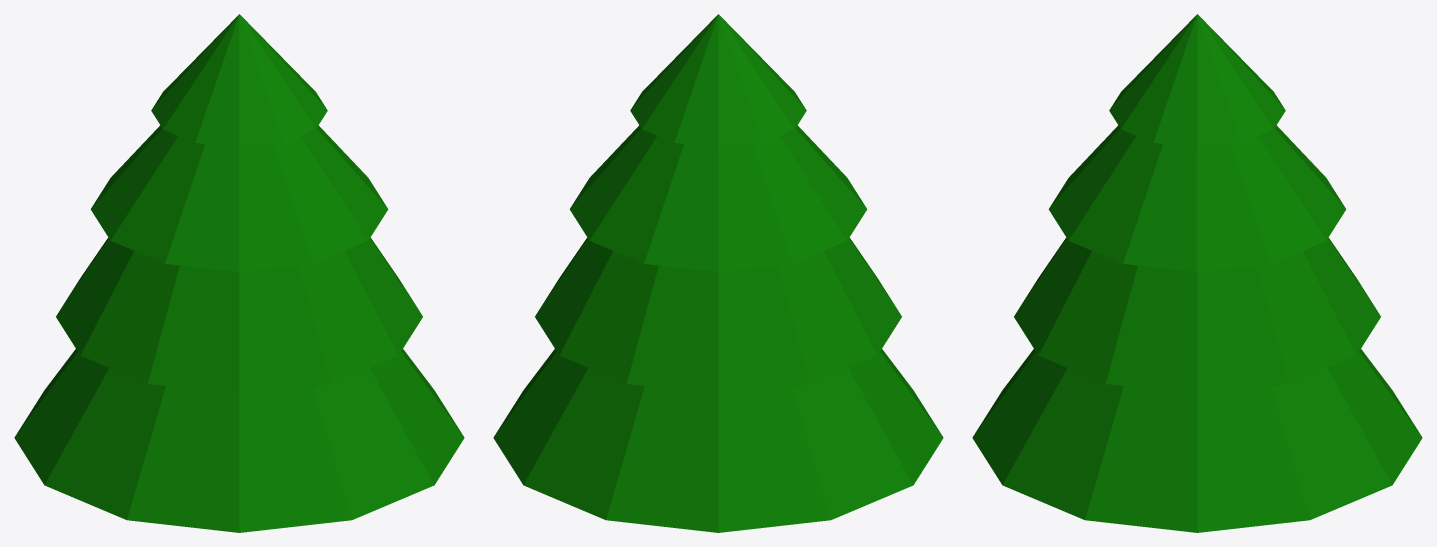
File: Tree.FBX
3 views of the same model, side by side, from view 1: azimuth 30°, elevation 25°; view 2: azimuth 150°, elevation 25°; view 3: azimuth 270°, elevation 25° (orthographic).
Visible parts, largest first — view 1: Tree; view 2: Tree; view 3: Tree.
Part boxes in pixels (x1=…): Tree: x1=14, y1=14, x2=464, y2=532; Tree: x1=493, y1=14, x2=943, y2=532; Tree: x1=972, y1=14, x2=1422, y2=532.
Bounding box in the file's own units: 42.02 × 43.63 × 42.02.
